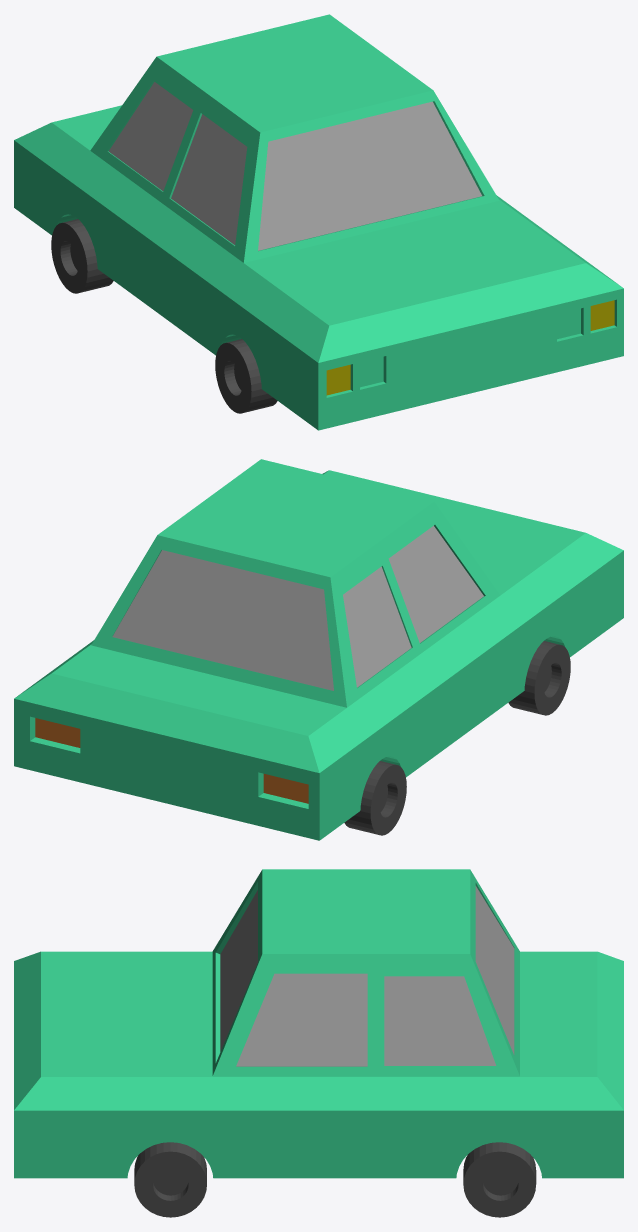
File: car3.fbx
3 renders of one model, top to bottom at view 1: azimuth 30°, elevation 25°; view 2: azimuth 150°, elevation 25°; view 3: azimuth 270°, elevation 25°, orthographic.
Visible parts, largest first — view 1: Cube, Cylinder.001; view 2: Cube, Cylinder.001; view 3: Cube, Cylinder.001.
Boxes of the visible parts, left/top/right/bottom form: Cube: left=14, top=14, right=623, bottom=430; Cylinder.001: left=51, top=219, right=277, bottom=413; Cube: left=14, top=459, right=623, bottom=840; Cylinder.001: left=344, top=641, right=570, bottom=835; Cube: left=14, top=869, right=623, bottom=1178; Cylinder.001: left=134, top=1142, right=536, bottom=1217.
Bounding box in the file's own units: 297 × 203 × 492.
